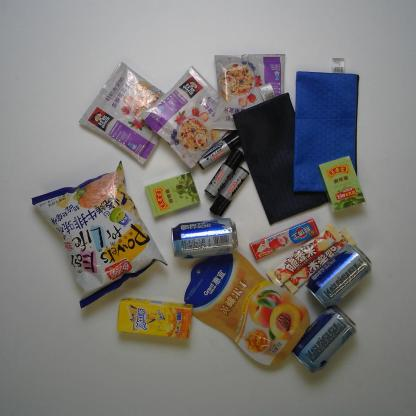Alcohol: (291, 304, 357, 374), (305, 244, 372, 310), (171, 218, 238, 260)
Candy: (249, 218, 320, 260), (318, 155, 366, 212), (145, 170, 200, 218)
Chocolate: (266, 222, 343, 287), (283, 228, 357, 294)
Dried Fruit: (184, 251, 310, 366)
Drink: (116, 297, 194, 339)
Instant Drink: (139, 65, 230, 169), (78, 62, 166, 165), (211, 54, 286, 130)
Puffed Food: (31, 160, 168, 309)
Stationery: (232, 92, 329, 225), (292, 71, 360, 193), (204, 147, 246, 198), (209, 166, 250, 216), (197, 130, 241, 170)
